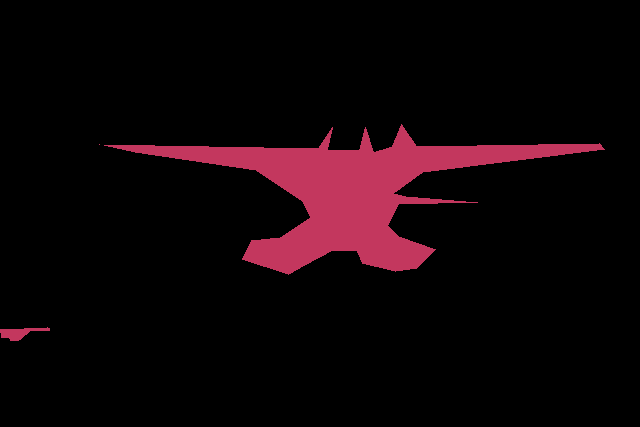Airplane: (99, 124, 605, 275), (0, 327, 49, 341)
